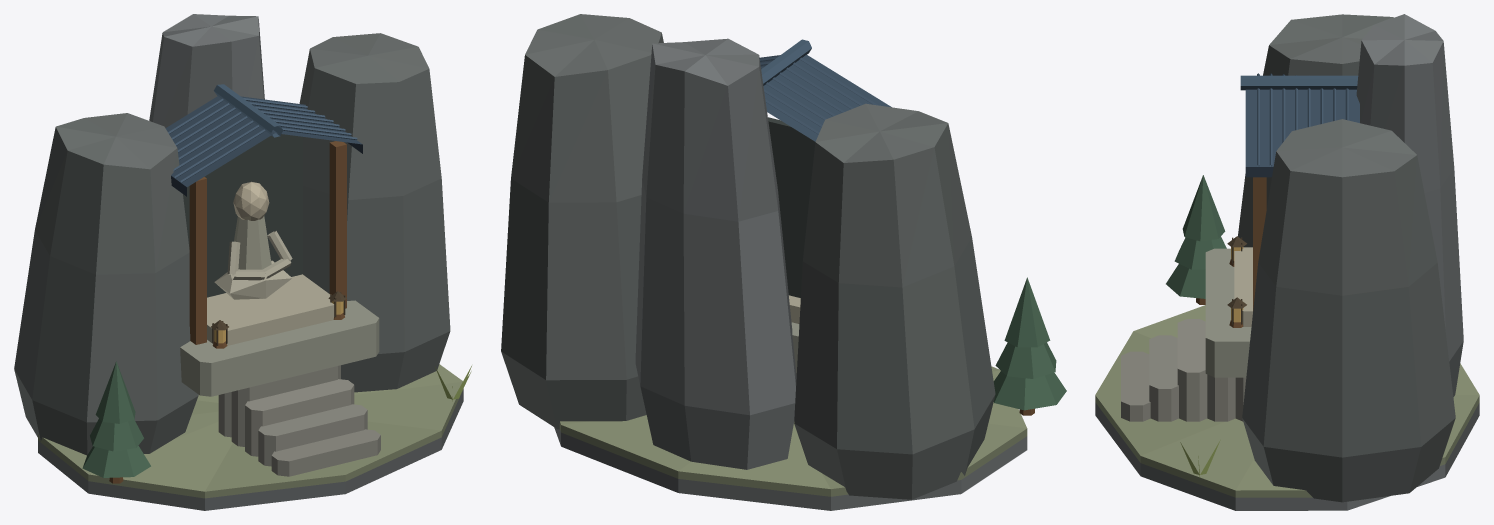
The picture shows the model from 3 angles, left to right: view 1: azimuth 30°, elevation 25°; view 2: azimuth 150°, elevation 25°; view 3: azimuth 270°, elevation 25°; orthographic projection. The views are drawn at different scales.
Parts seen in each view (by area): view 1: S09_悬崖神龛; view 2: S09_悬崖神龛; view 3: S09_悬崖神龛.
Boxes of the visible parts, x1,y1,x2,y2 form: S09_悬崖神龛: (14,14,471,510); S09_悬崖神龛: (501,14,1066,510); S09_悬崖神龛: (1095,14,1479,510).
Size of the model in its own units: 4.49 by 3.74 by 3.4.
